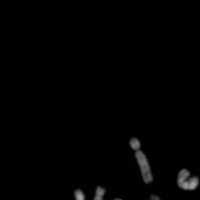chromosome: (130, 137, 152, 182), (177, 168, 198, 189), (59, 188, 85, 200), (92, 186, 104, 200), (150, 195, 165, 200), (107, 198, 124, 200)
